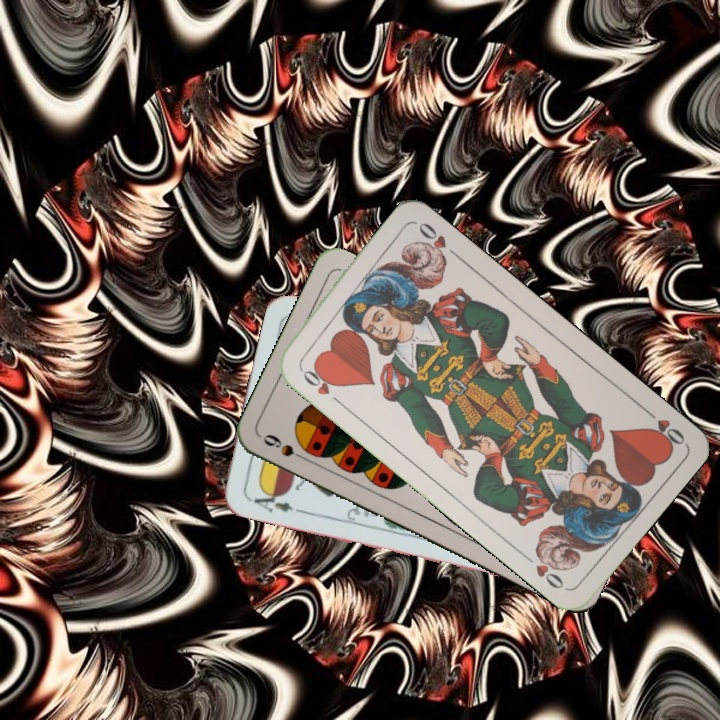EA: (244, 485, 303, 515)
HO: (638, 403, 688, 451), (295, 361, 344, 407)
S9: (259, 430, 314, 465)
